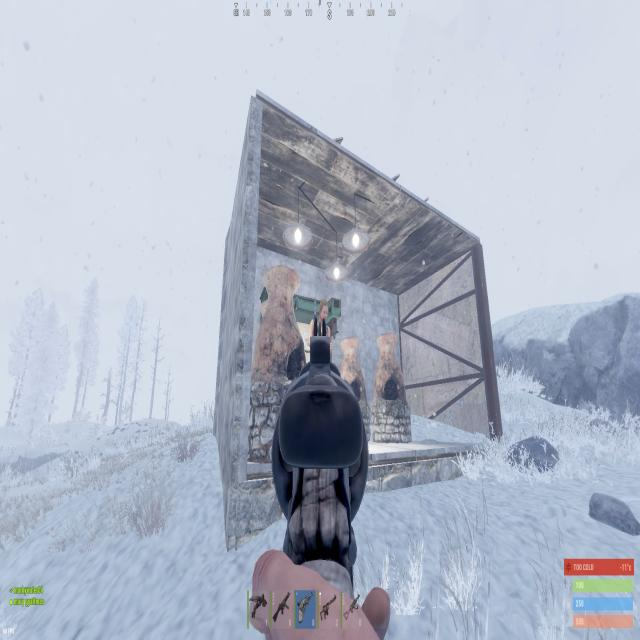Player: (307, 296, 334, 366)
